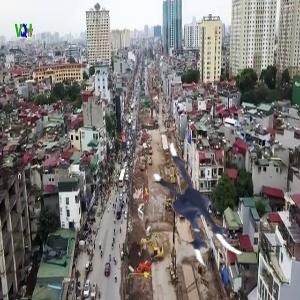drone: (141, 138, 272, 269)
